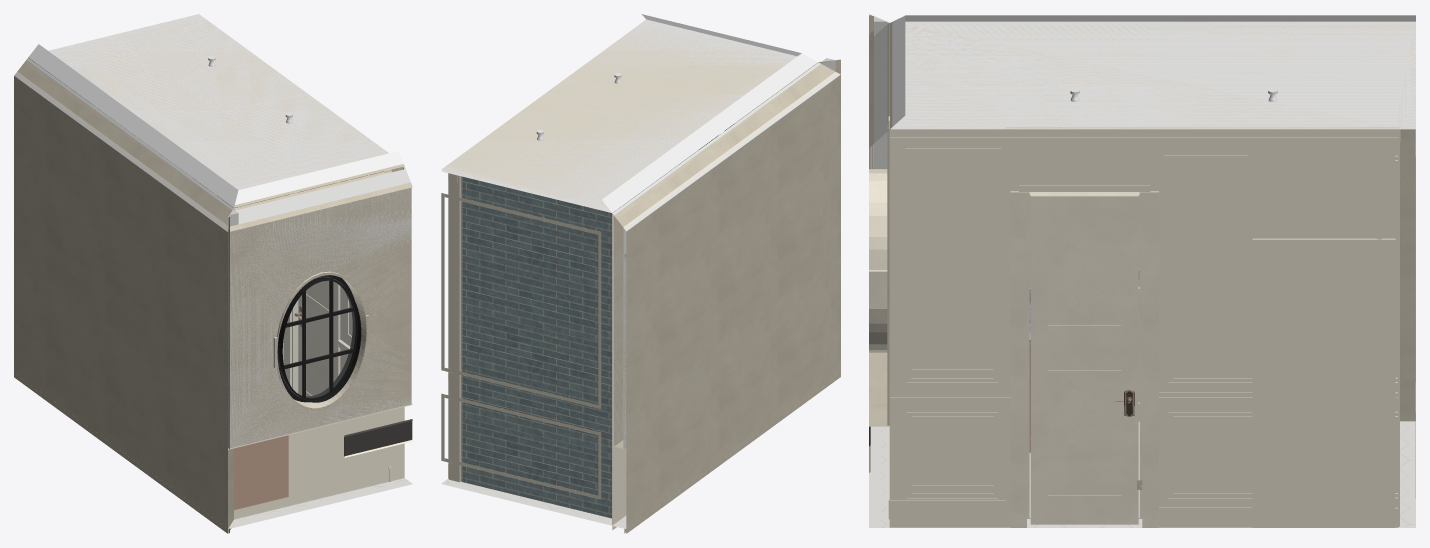
The model's file is blue-bath-c43a47f93233.glb.
The picture shows the model from 3 angles, left to right: view 1: azimuth 30°, elevation 25°; view 2: azimuth 150°, elevation 25°; view 3: azimuth 270°, elevation 25°; orthographic projection. The views are drawn at different scales.
Parts seen in each view (by area): view 1: blue-bath-312b4ac1be39223d, blue-bath-bddaf205afbd60c0, blue-bath-9d91b47435c6fb33, blue-bath-e8793759323e04f0, blue-bath-33ee0b466567e5f0, blue-bath-df3e1f21720b0c39, blue-bath-2f7d8eff34a2c180, blue-bath-99b308e00d07c4e6, blue-bath-39b94aca90fa4b53, blue-bath-c700045fb7c0d89d, blue-bath-bb2a37e95c56944b, blue-bath-bf159a19de53e60e (+9 smaller); view 2: blue-bath-312b4ac1be39223d, blue-bath-81319d6284883901, blue-bath-e8793759323e04f0, blue-bath-9d91b47435c6fb33, blue-bath-33ee0b466567e5f0, blue-bath-39b94aca90fa4b53, blue-bath-ed5fdcd3ee9c0dd5, blue-bath-3a4d9d62ecd7be1c, blue-bath-06754748489735a0, blue-bath-6e269356ae8bfd70, blue-bath-b63ee86b16afd4c0, blue-bath-0e16aad907f7d881 (+1 smaller); view 3: blue-bath-9d91b47435c6fb33, blue-bath-ed5fdcd3ee9c0dd5, blue-bath-ead09a0b3f9e3bd9, blue-bath-bf159a19de53e60e, blue-bath-3e649b0d114ae387, blue-bath-e8793759323e04f0, blue-bath-8798d08755b4aa77, blue-bath-8f5d8501f6e548f5, blue-bath-6e269356ae8bfd70, blue-bath-0e16aad907f7d881, blue-bath-d8e4d1e2b1f6ec6c, blue-bath-e55ba151bf6688a8 (+18 smaller).
Part boxes in pixels (box(x1,y1,x2,y2)): blue-bath-312b4ac1be39223d: box(14, 73, 229, 449); blue-bath-bddaf205afbd60c0: box(230, 182, 411, 447); blue-bath-9d91b47435c6fb33: box(28, 14, 404, 207); blue-bath-e8793759323e04f0: box(30, 14, 403, 204); blue-bath-33ee0b466567e5f0: box(14, 293, 228, 533); blue-bath-df3e1f21720b0c39: box(229, 184, 412, 448); blue-bath-2f7d8eff34a2c180: box(228, 404, 412, 533); blue-bath-99b308e00d07c4e6: box(278, 277, 354, 397); blue-bath-39b94aca90fa4b53: box(17, 60, 238, 226); blue-bath-c700045fb7c0d89d: box(277, 275, 366, 402); blue-bath-bb2a37e95c56944b: box(234, 435, 288, 509); blue-bath-bf159a19de53e60e: box(298, 183, 335, 396); blue-bath-312b4ac1be39223d: box(624, 59, 840, 449); blue-bath-81319d6284883901: box(462, 177, 611, 518); blue-bath-e8793759323e04f0: box(441, 14, 815, 210); blue-bath-9d91b47435c6fb33: box(442, 19, 817, 212); blue-bath-33ee0b466567e5f0: box(612, 293, 840, 533); blue-bath-39b94aca90fa4b53: box(614, 58, 835, 447); blue-bath-ed5fdcd3ee9c0dd5: box(449, 173, 460, 482); blue-bath-3a4d9d62ecd7be1c: box(612, 61, 821, 446); blue-bath-06754748489735a0: box(441, 193, 601, 408); blue-bath-6e269356ae8bfd70: box(441, 170, 618, 524); blue-bath-b63ee86b16afd4c0: box(441, 393, 601, 499); blue-bath-0e16aad907f7d881: box(441, 478, 626, 528); blue-bath-9d91b47435c6fb33: box(890, 21, 1415, 129); blue-bath-ed5fdcd3ee9c0dd5: box(1005, 127, 1399, 526); blue-bath-ead09a0b3f9e3bd9: box(1252, 238, 1395, 527); blue-bath-bf159a19de53e60e: box(1030, 195, 1138, 524); blue-bath-3e649b0d114ae387: box(889, 121, 1005, 499); blue-bath-e8793759323e04f0: box(892, 15, 1415, 126); blue-bath-8798d08755b4aa77: box(1010, 191, 1158, 527); blue-bath-8f5d8501f6e548f5: box(889, 129, 1398, 146); blue-bath-6e269356ae8bfd70: box(1398, 127, 1415, 527); blue-bath-0e16aad907f7d881: box(869, 421, 1415, 527); blue-bath-d8e4d1e2b1f6ec6c: box(906, 156, 998, 382); blue-bath-e55ba151bf6688a8: box(869, 169, 887, 352).
Bounding box in the file's own units: 1.8 × 3.04 × 3.6.
34 materials, 6 textured.
